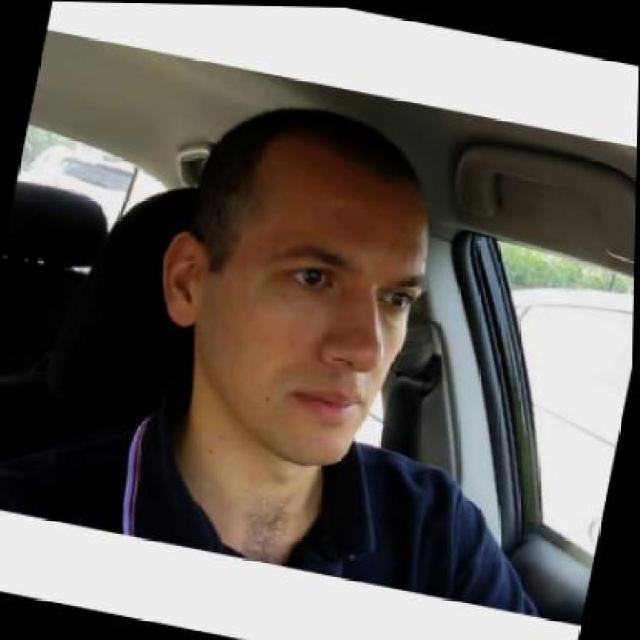attentif: (130, 80, 455, 478)
